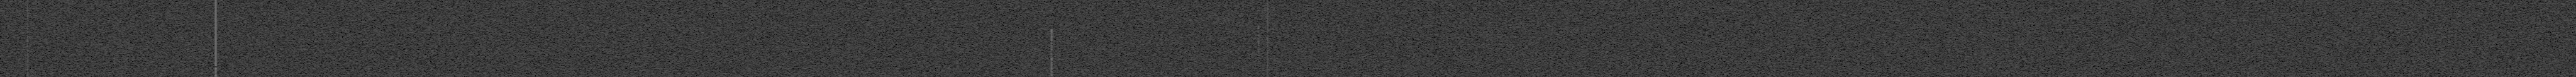wv_am: (202, 67, 228, 77), (26, 0, 30, 77), (214, 0, 217, 66)
wv_cw: (1265, 0, 1270, 77)
wv_usb: (1050, 28, 1053, 77), (1257, 31, 1260, 57), (1257, 59, 1260, 64), (1257, 25, 1260, 29)
